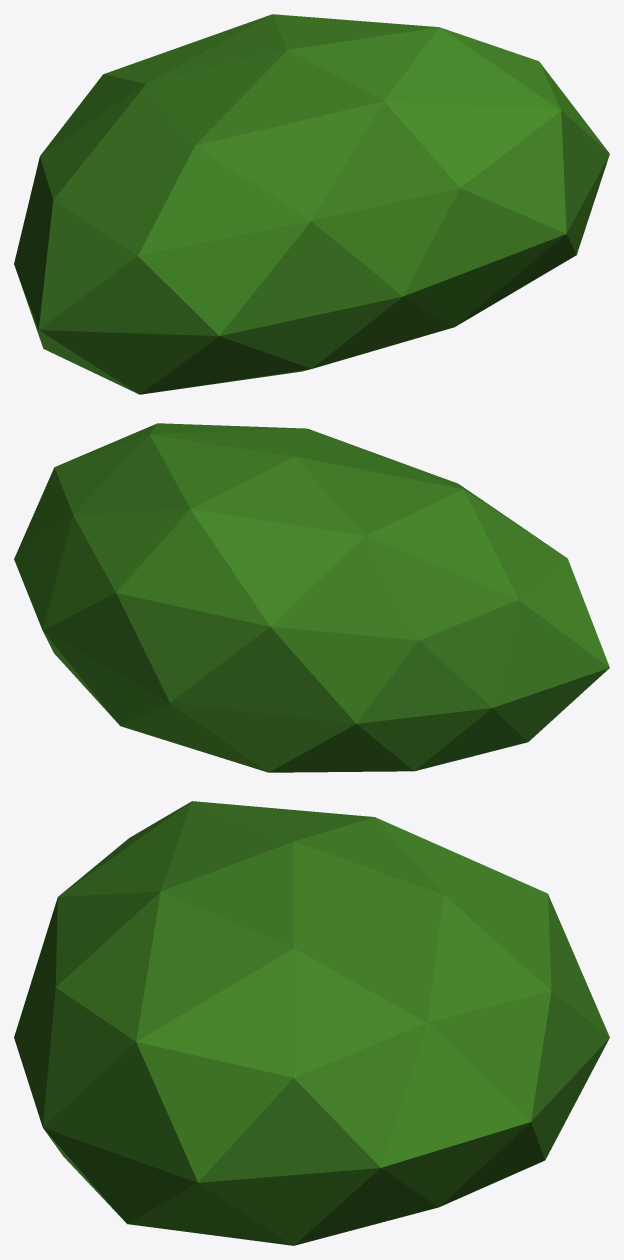
The model's file is N09_Leaf_Cluster_Wide.fbx.
The picture shows the model from 3 angles, top to bottom: view 1: azimuth 30°, elevation 25°; view 2: azimuth 150°, elevation 25°; view 3: azimuth 270°, elevation 25°; orthographic projection. The views are drawn at different scales.
Visible parts, largest first — view 1: N09_Leaf_Cluster_Wide; view 2: N09_Leaf_Cluster_Wide; view 3: N09_Leaf_Cluster_Wide.
Part boxes in pixels (x1,y1,x2,y2): N09_Leaf_Cluster_Wide: (14, 14, 609, 394); N09_Leaf_Cluster_Wide: (14, 423, 609, 772); N09_Leaf_Cluster_Wide: (14, 801, 609, 1245).
Bounding box in the file's own units: 1.74 × 0.8061 × 1.29.
1 material, 1 textured.
